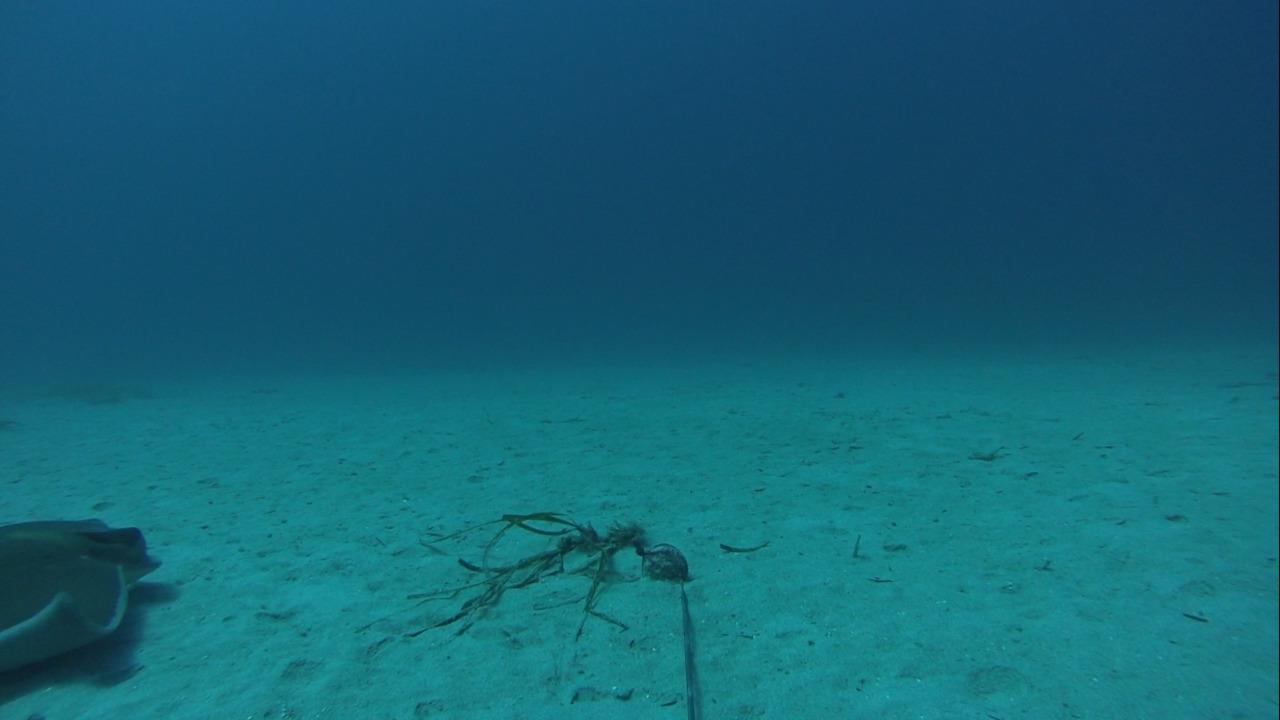myliobatis: (3, 509, 158, 682)
